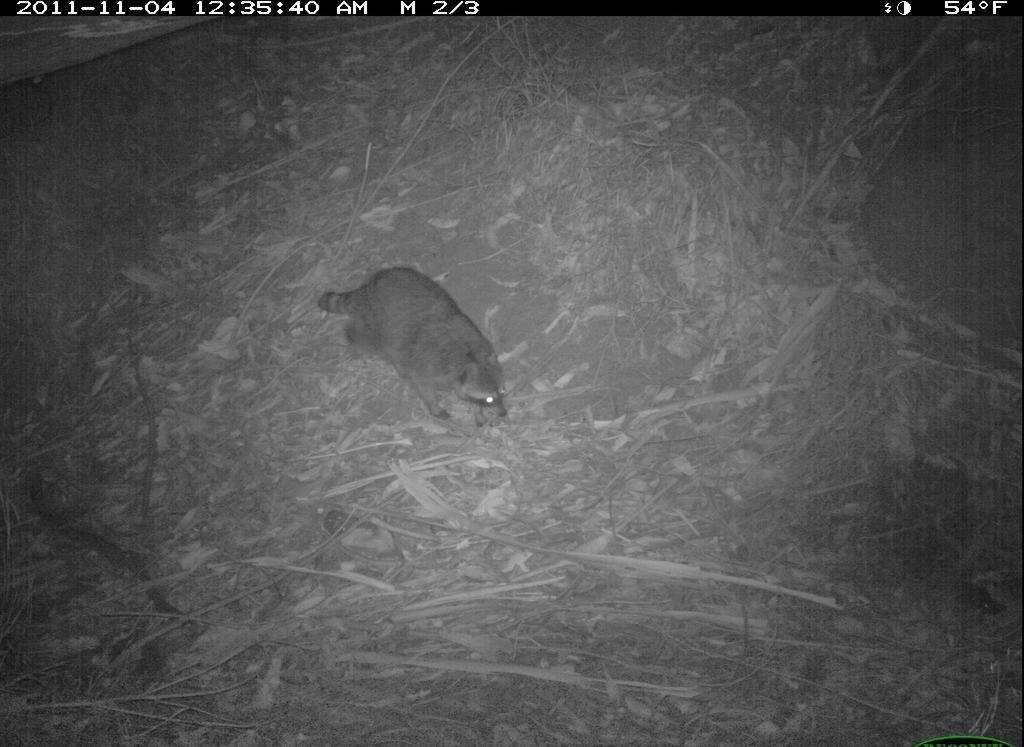raccoon: (310, 256, 521, 441)
